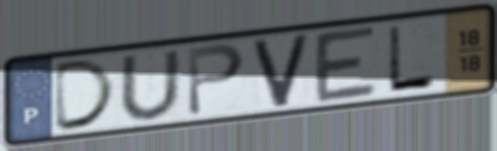D: (51, 56, 120, 135)
E: (312, 23, 380, 107)
L: (385, 22, 439, 94)
P: (185, 40, 248, 119)
U: (117, 47, 184, 123)
V: (249, 30, 313, 111)
